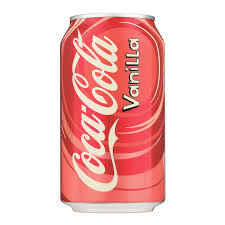can: (54, 7, 168, 218)
